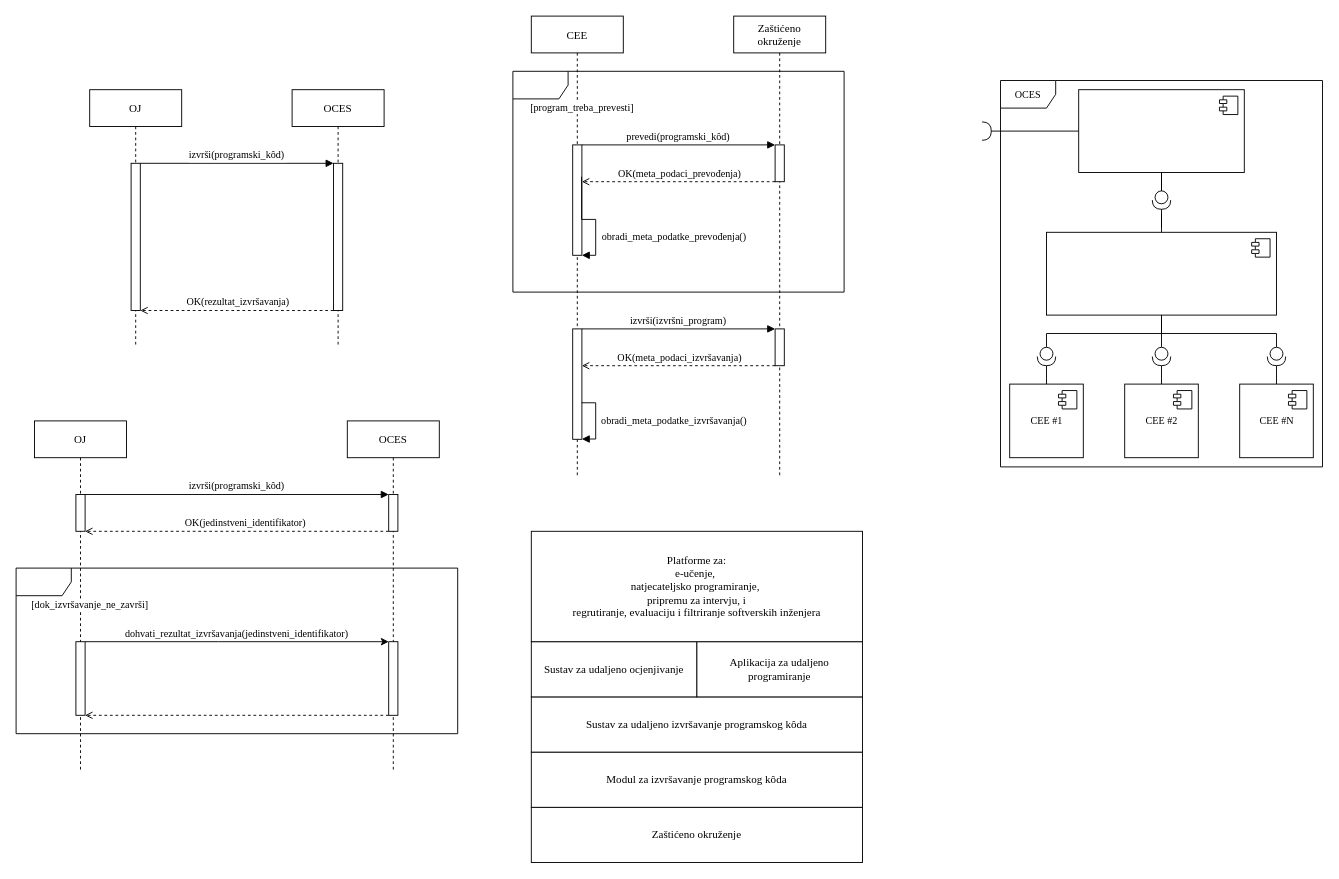
Image size: 1339x879. Some labels were removed from this diagram. Here are the shapes that lost their labels. From the top down, the box of each, then its label:
(1078, 89, 1244, 172): Web aplikacijsko sučelje
(512, 70, 844, 292): ako
(1046, 231, 1276, 315): OCES međuoprema
(15, 567, 458, 734): petlja
